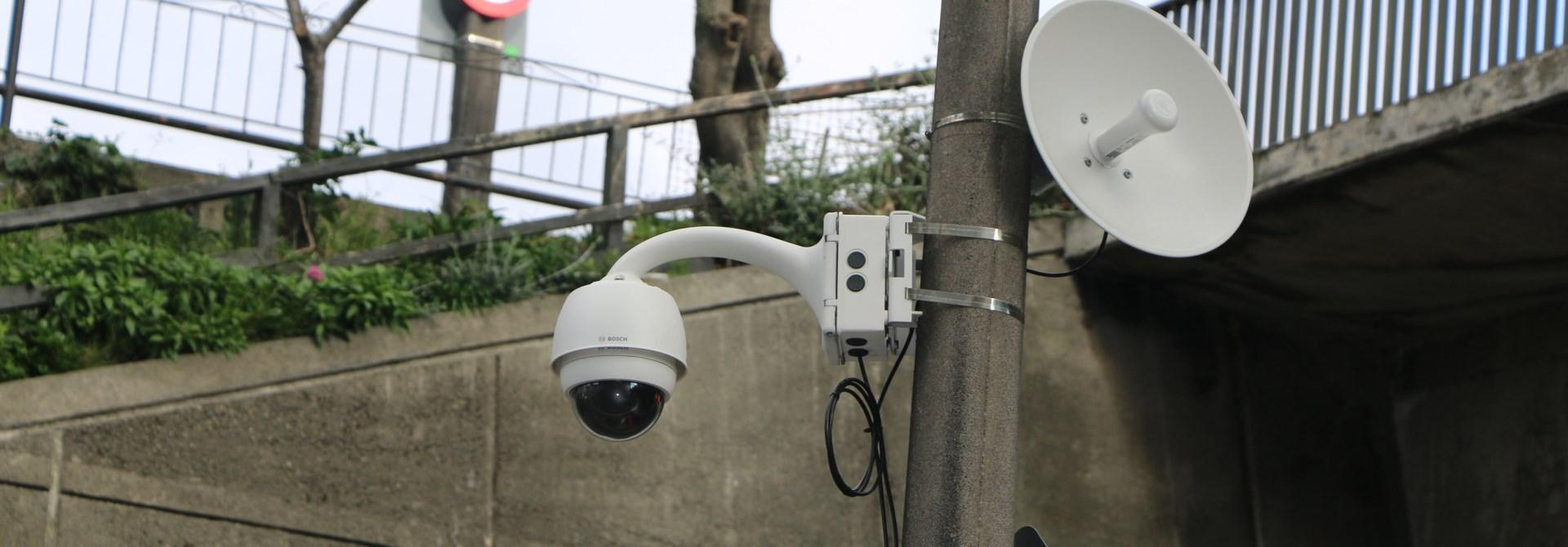camera: (510, 229, 751, 488)
